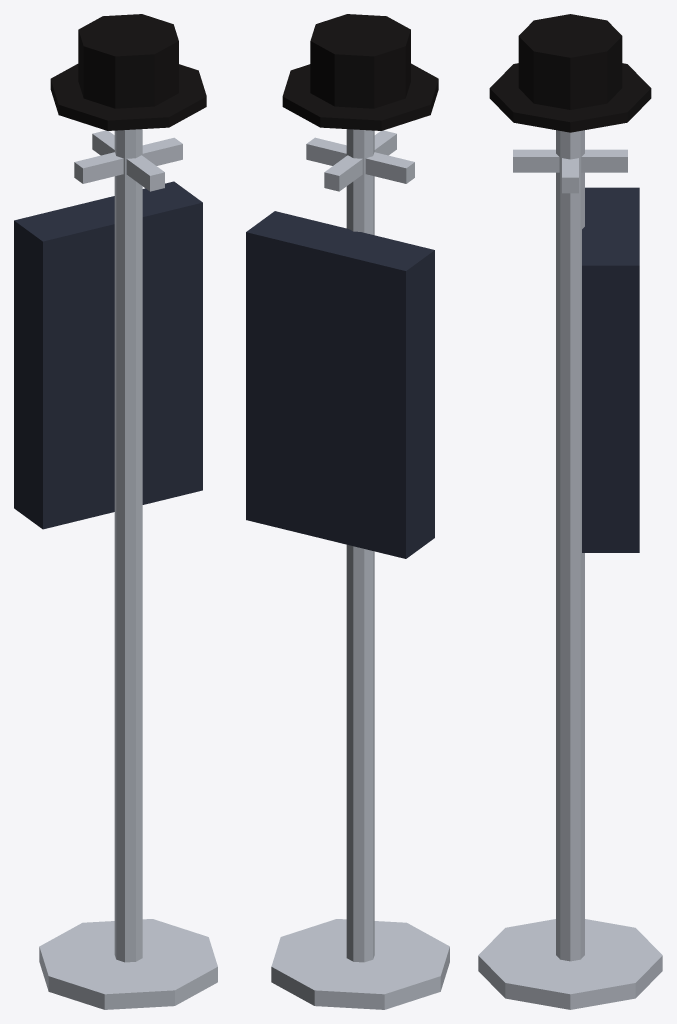
File: welt_garderobe.glb
The picture shows the model from 3 angles, left to right: view 1: azimuth 30°, elevation 25°; view 2: azimuth 150°, elevation 25°; view 3: azimuth 270°, elevation 25°; orthographic projection.
Parts seen in each view (by area): view 1: jacke, stange, fuss, hut_kopf, hut_krempe, haken_2, haken_3, haken_0, haken_1; view 2: jacke, stange, fuss, hut_kopf, hut_krempe, haken_2, haken_1, haken_0, haken_3; view 3: stange, jacke, fuss, hut_kopf, hut_krempe, haken_1, haken_3, haken_0.
Part boxes in pixels (box(x1,y1,x2,y2)): jacke: box(14, 181, 202, 529); stange: box(114, 129, 142, 962); fuss: box(39, 919, 217, 1009); hut_kopf: box(78, 14, 178, 108); hut_krempe: box(50, 64, 206, 130); haken_2: box(74, 152, 123, 183); haken_3: box(126, 155, 164, 191); haken_0: box(142, 137, 182, 165); haken_1: box(92, 130, 114, 155); jacke: box(246, 211, 434, 558); stange: box(346, 129, 374, 962); fuss: box(271, 919, 449, 1009); hut_kopf: box(310, 14, 410, 108); hut_krempe: box(282, 63, 438, 130); haken_2: box(365, 152, 414, 183); haken_1: box(324, 155, 362, 191); haken_0: box(306, 137, 346, 165); haken_3: box(374, 130, 396, 155); stange: box(556, 130, 584, 961); jacke: box(582, 187, 639, 552); fuss: box(478, 919, 662, 1009); hut_kopf: box(518, 14, 622, 109); hut_krempe: box(489, 63, 651, 132); haken_1: box(581, 149, 627, 172); haken_3: box(513, 149, 559, 172); haken_0: box(562, 158, 578, 193).
Size of the model in its own units: 0.32 by 1.79 by 0.32.
